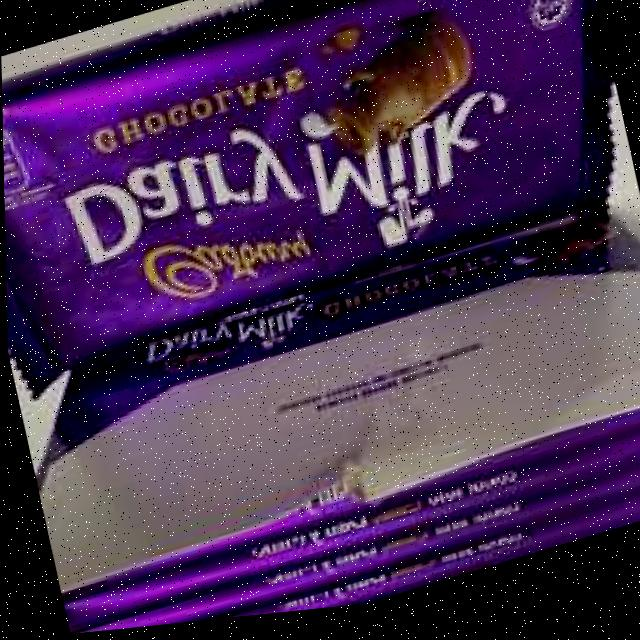cadbury: (0, 0, 639, 390)
